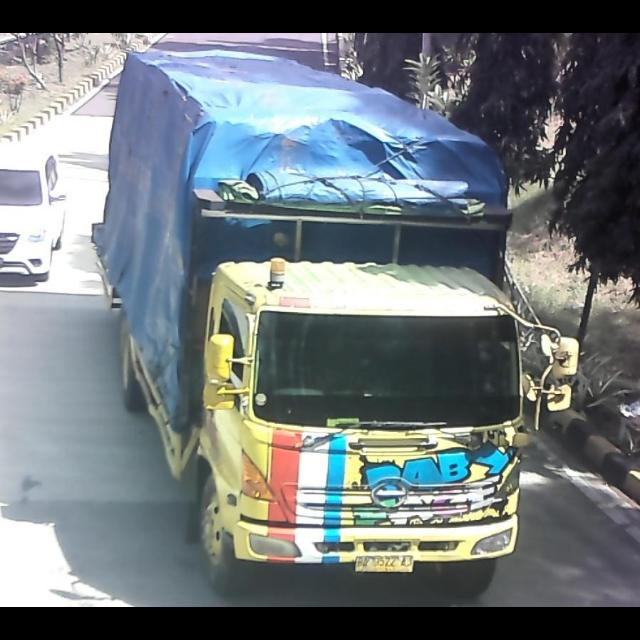plate: (355, 554, 419, 576)
